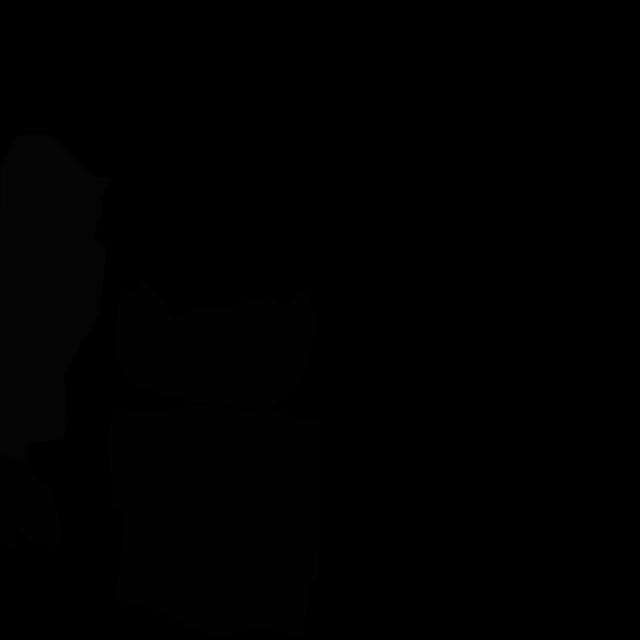cardboard: (108, 404, 322, 639), (115, 277, 318, 412), (0, 454, 62, 549)
soft_plastic: (0, 135, 110, 463)
